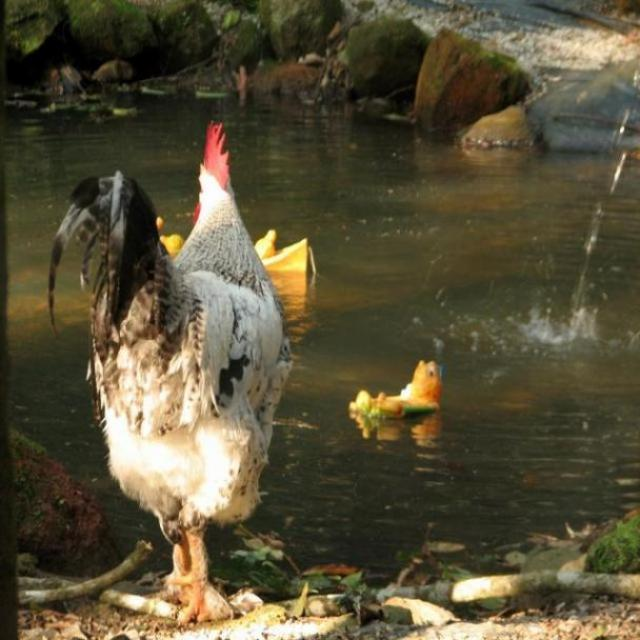Chicken: (36, 127, 286, 629)
